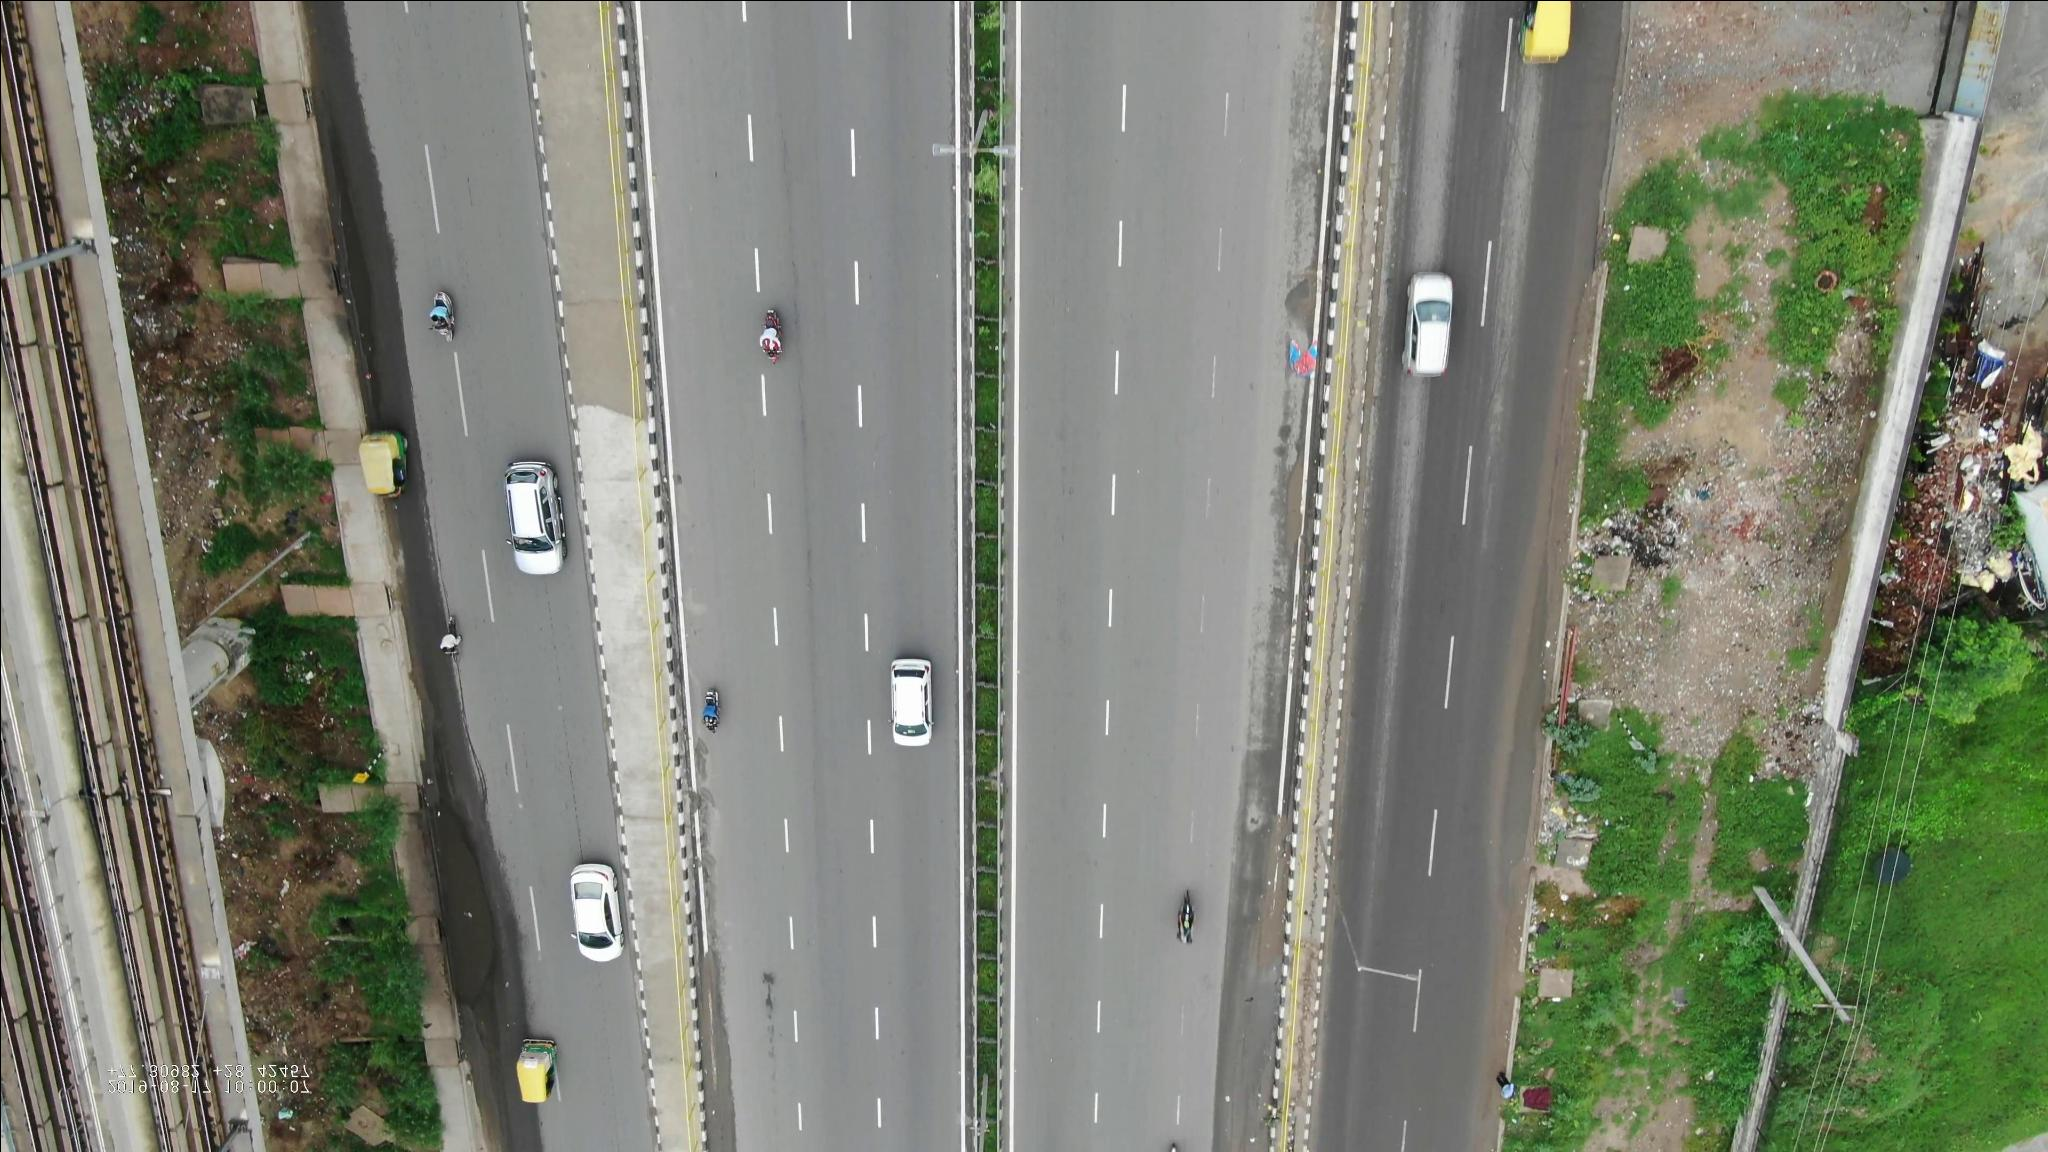Muddy_road: (1537, 295, 1594, 461), (1248, 805, 1297, 978), (1272, 440, 1317, 563), (1488, 933, 1529, 1055)
Waterlogging: (1495, 544, 1568, 931), (430, 807, 505, 1011), (329, 188, 378, 331)
